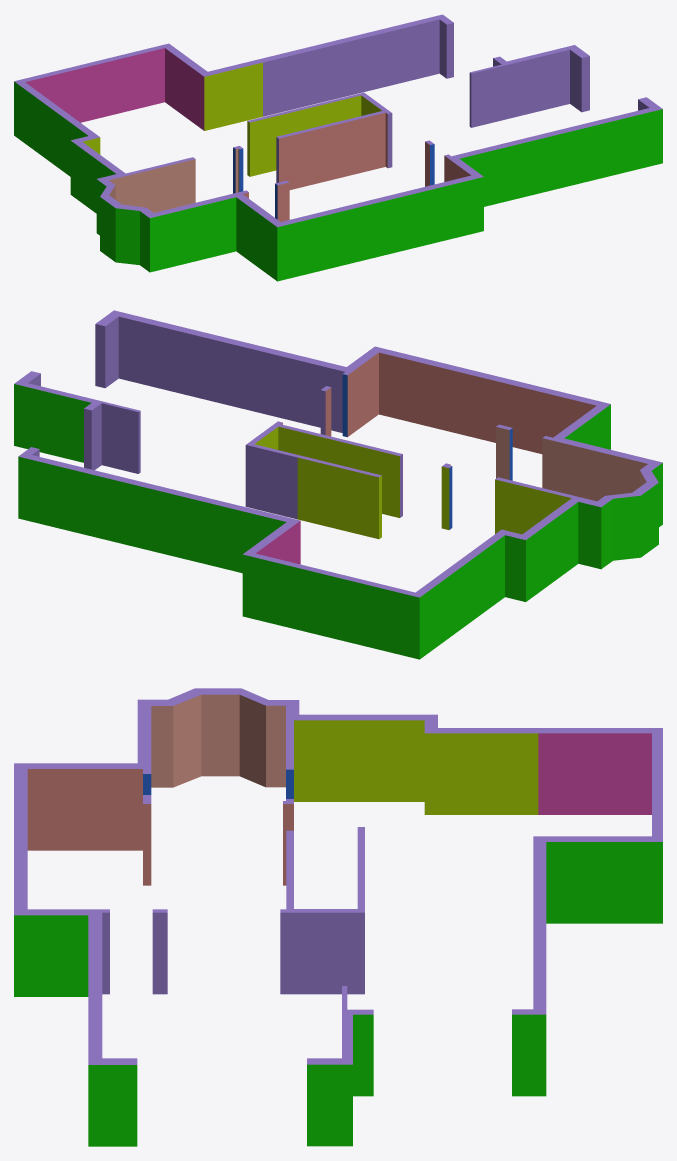
File: wand.fbx
3 renders of one model, top to bottom at view 1: azimuth 30°, elevation 25°; view 2: azimuth 150°, elevation 25°; view 3: azimuth 270°, elevation 25°, orthographic. The views are drawn at different scales.
Parts seen in each view (by area): view 1: waende; view 2: waende; view 3: waende.
Boxes of the visible parts, x1,y1,x2,y2 form: waende: [14, 14, 662, 281]; waende: [14, 310, 662, 659]; waende: [14, 688, 662, 1146].
Bounding box in the file's own units: 716 × 72.49 × 522.
